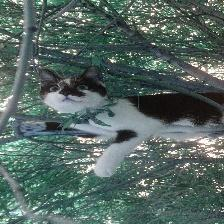kedo: (18, 66, 224, 177)
